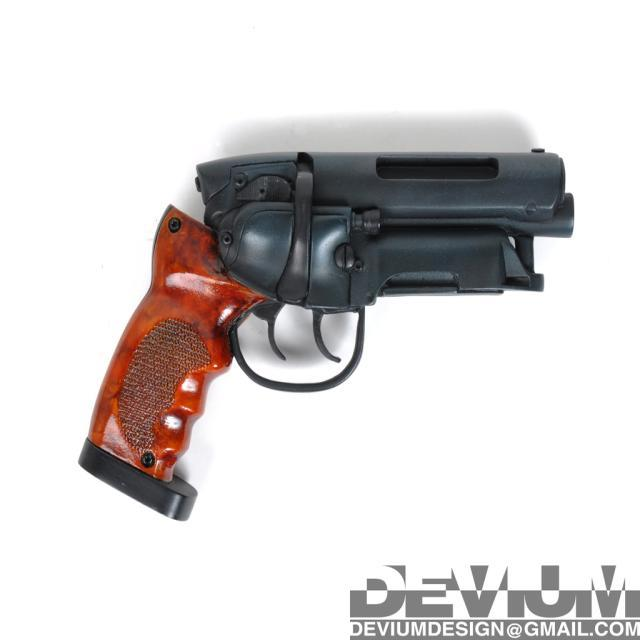Gun: (80, 151, 574, 518)
